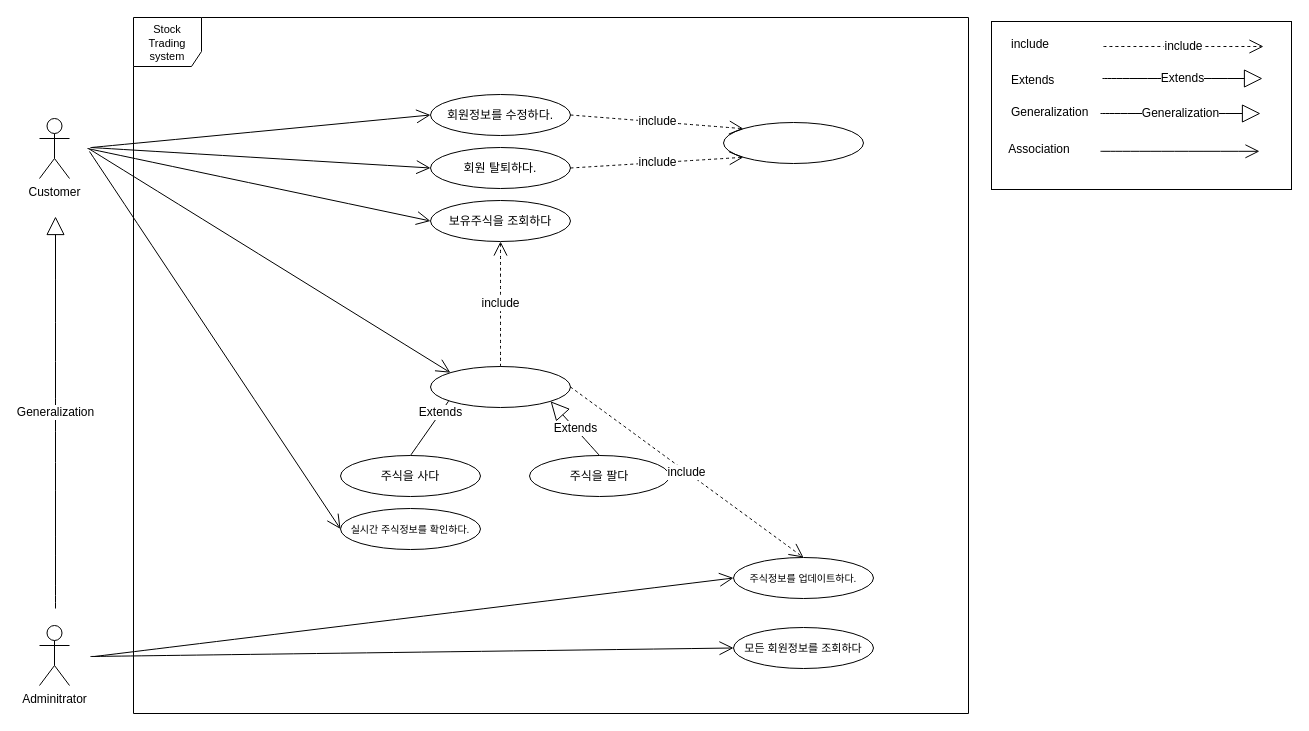
The diagram is 1309 pixels wide and 731 high, and some of its shapes have lost their labels. The centre of each missing label's shape, as x and y in pixels:
"주식을 거래하다." belongs at [500,387].
"회원정보를 등록하다." belongs at [793,143].
